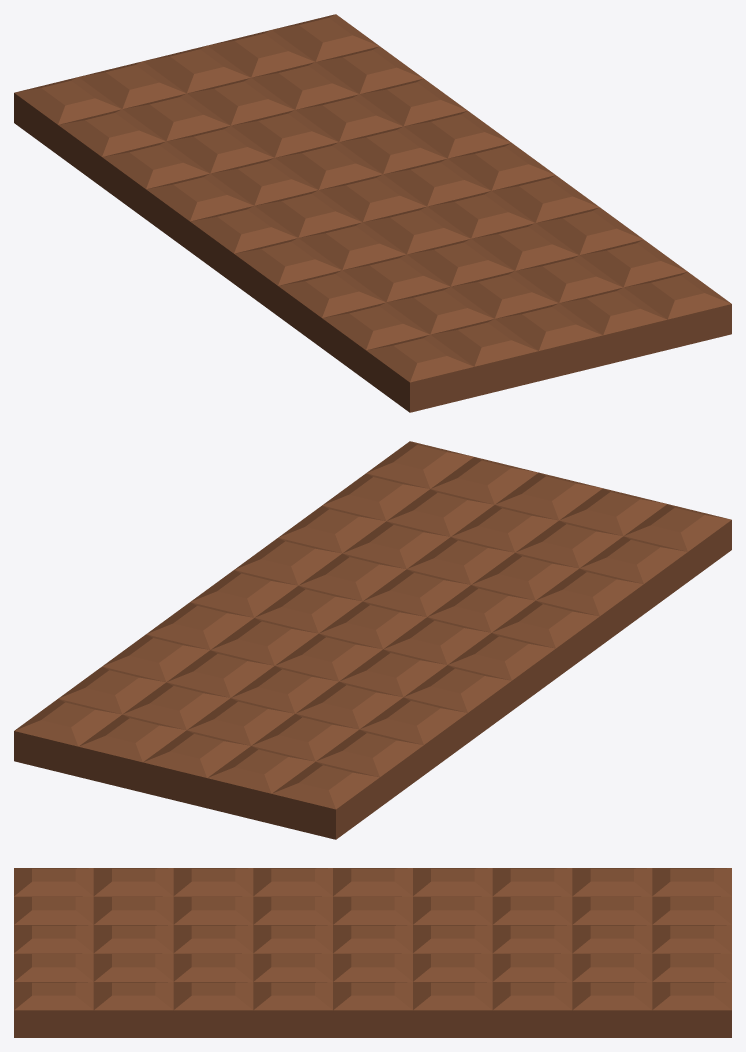
File: chocolate.fbx
3 renders of one model, top to bottom at view 1: azimuth 30°, elevation 25°; view 2: azimuth 150°, elevation 25°; view 3: azimuth 270°, elevation 25°, orthographic. The views are drawn at different scales.
Parts seen in each view (by area): view 1: chocolate; view 2: chocolate; view 3: chocolate.
Boxes of the visible parts, x1,y1,x2,y2 form: chocolate: (14, 14, 731, 412); chocolate: (14, 441, 731, 839); chocolate: (14, 868, 731, 1037).
Size of the model in its own units: 8.02 by 0.908 by 17.08.
